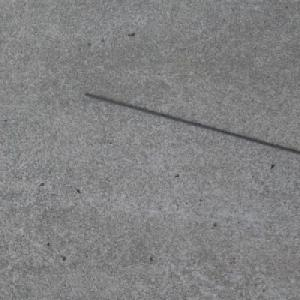LuggagePart: (85, 92, 300, 154)
